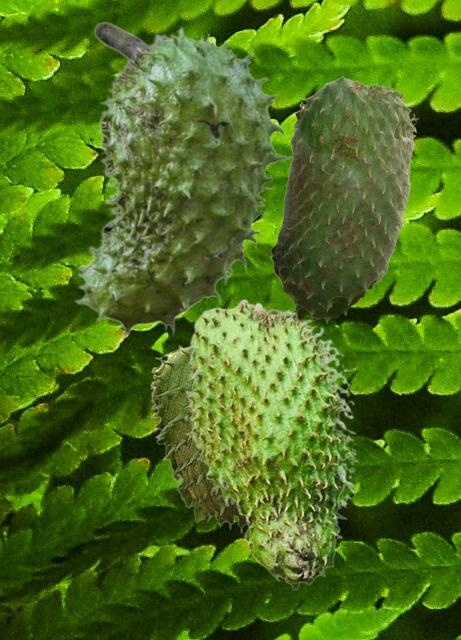guyabano: (73, 21, 291, 339), (183, 298, 358, 590), (269, 75, 417, 322), (150, 344, 334, 533)
